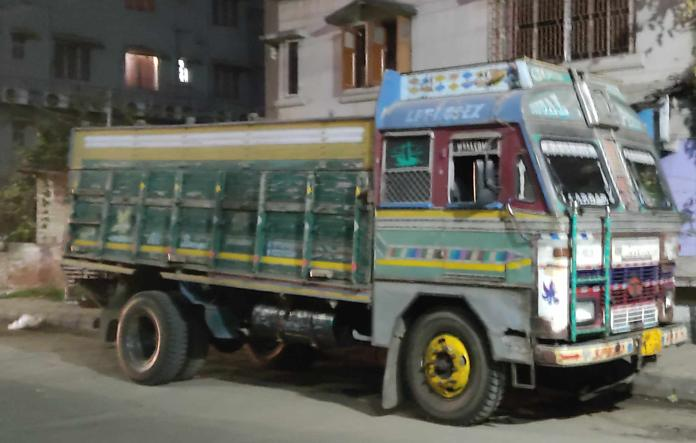Truck: (60, 55, 690, 431)
